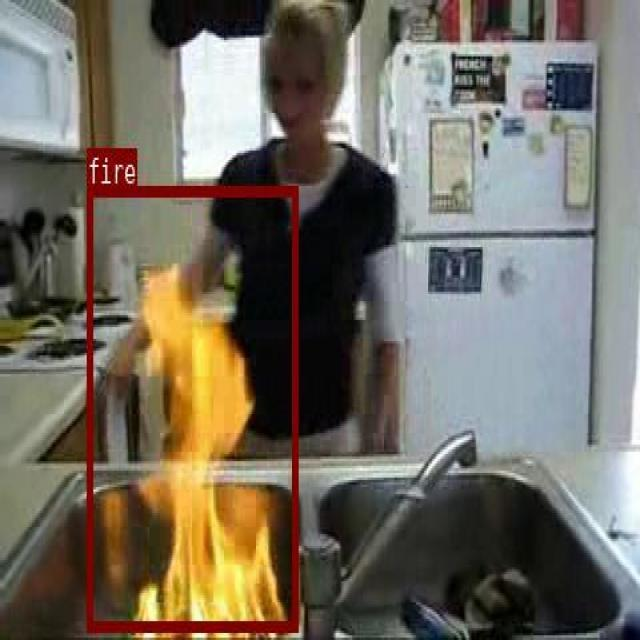fire: (86, 185, 296, 630)
